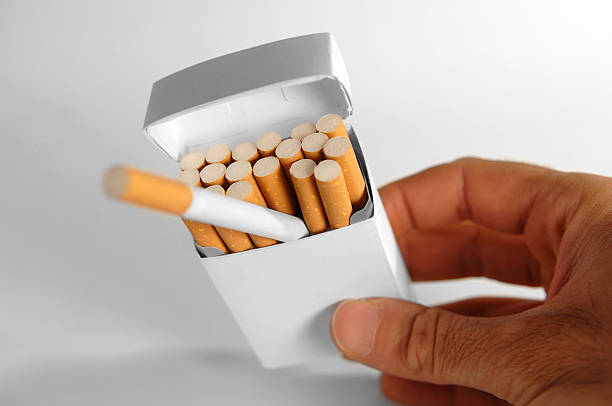cigarette: (142, 30, 420, 374), (103, 162, 308, 241), (205, 181, 255, 251), (227, 181, 279, 248), (288, 157, 330, 235), (323, 136, 367, 209), (252, 156, 303, 218), (314, 159, 352, 229), (180, 218, 232, 256), (301, 132, 330, 163), (315, 113, 348, 138), (225, 159, 258, 182), (274, 136, 302, 162), (232, 140, 261, 165), (198, 163, 227, 188), (205, 142, 232, 166), (256, 131, 282, 155), (178, 152, 207, 171), (290, 120, 316, 140), (175, 169, 201, 189)
